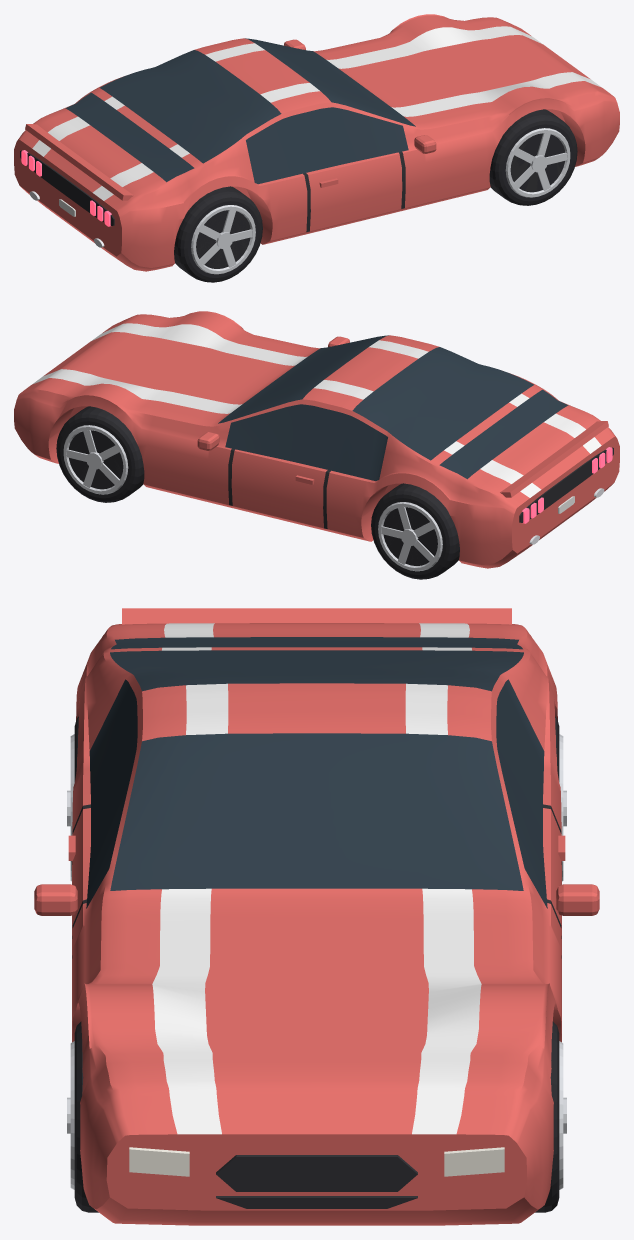
The model's file is furd_mustank.fbx.
3 views of the same model, one above another, from view 1: azimuth 30°, elevation 25°; view 2: azimuth 150°, elevation 25°; view 3: azimuth 270°, elevation 25° (orthographic). The views are drawn at different scales.
Visible parts, largest first — view 1: Body.008, Glass.008, Tire.008, Stripe, Rim.008, Trim.008, TailLight.008; view 2: Body.008, Glass.008, Tire.008, Stripe, Rim.008, Trim.008, TailLight.008; view 3: Body.008, Glass.008, Stripe, Trim.008, Tire.008, HeadLight.008, Rim.008.
Boxes of the visible parts, x1,y1,x2,y2 form: Body.008: (14,14,619,271); Glass.008: (65,38,415,184); Tire.008: (174,109,577,282); Stripe: (32,26,601,200); Rim.008: (191,128,570,274); Trim.008: (20,142,564,268); TailLight.008: (21,150,111,226); Body.008: (14,311,619,568); Glass.008: (218,335,568,481); Tire.008: (56,406,459,579); Stripe: (32,323,601,497); Rim.008: (63,425,442,571); Trim.008: (69,437,613,565); TailLight.008: (522,447,612,523); Body.008: (34,608,599,1225); Glass.008: (86,637,547,908); Stripe: (152,623,481,1134); Trim.008: (72,804,561,1208); Tire.008: (74,716,559,1212); HeadLight.008: (129,1147,504,1176); Rim.008: (67,734,566,1189).
Bounding box in the file's own units: 1616 × 441 × 784.
